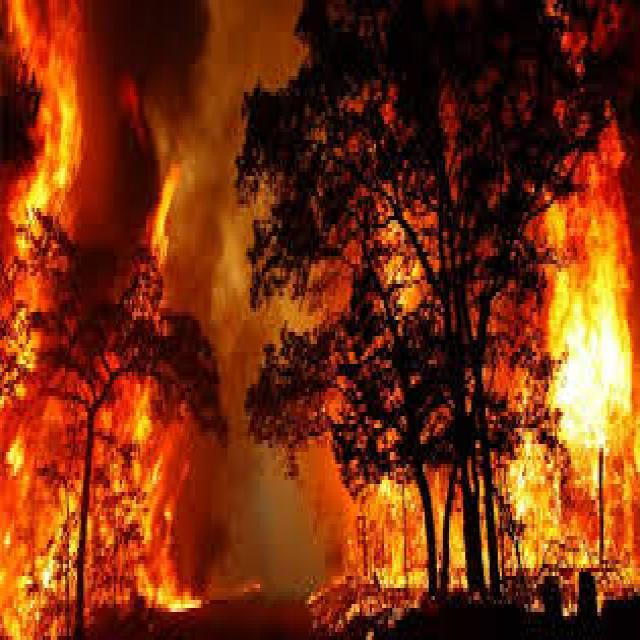Fire: (305, 58, 640, 622), (0, 0, 202, 640)
Smoke: (190, 0, 303, 317)
